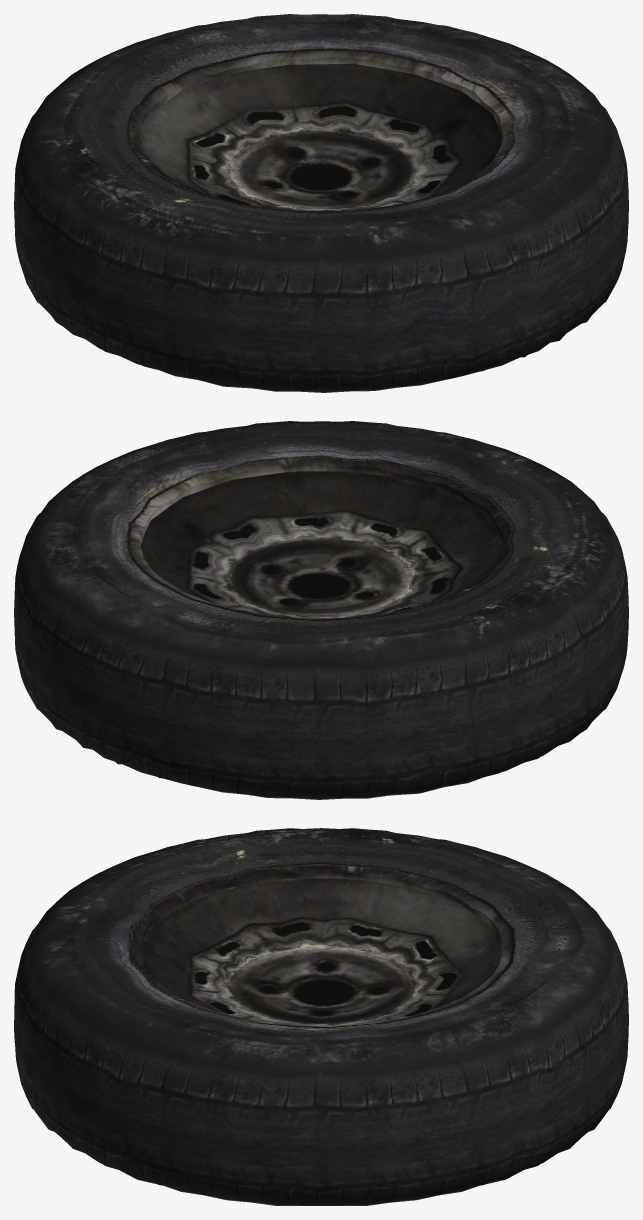
File: tire.dae
3 views of the same model, one above another, from view 1: azimuth 30°, elevation 25°; view 2: azimuth 150°, elevation 25°; view 3: azimuth 270°, elevation 25° (orthographic).
Visible parts, largest first — view 1: body; view 2: body; view 3: body.
Boxes of the visible parts, x1=… form: body: x1=14, y1=14, x2=628, y2=392; body: x1=14, y1=421, x2=628, y2=799; body: x1=14, y1=828, x2=628, y2=1205.
Size of the model in its own units: 0.6652 by 0.1803 by 0.6652.
Materials: 1 (1 with a texture image).
